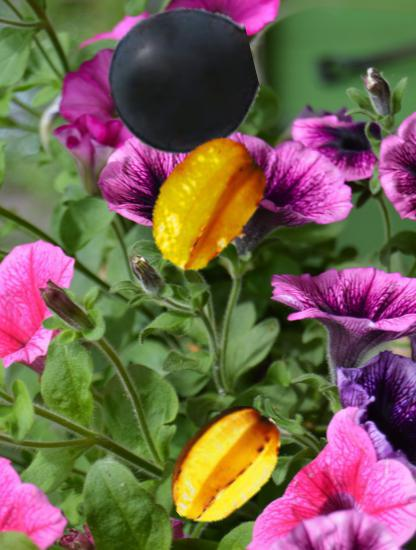Carambula: (138, 133, 281, 276), (157, 398, 290, 531)
Grape: (107, 6, 256, 155)
